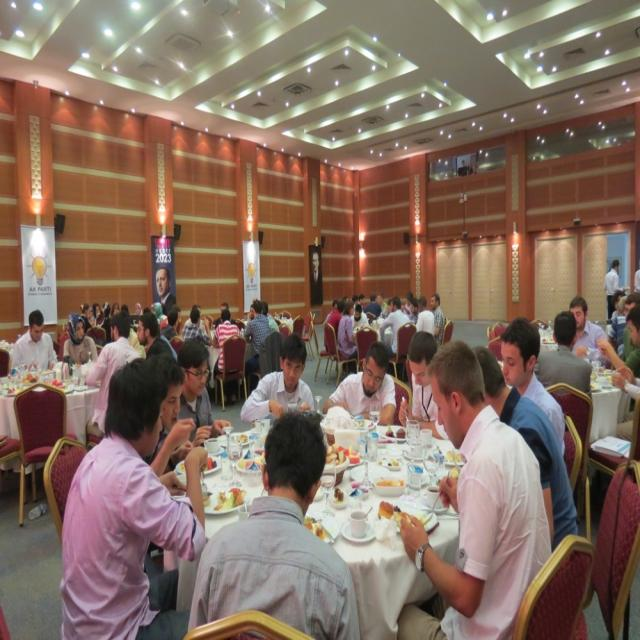body: (395, 336, 553, 640), (57, 356, 210, 640), (187, 409, 361, 640), (470, 343, 580, 553), (498, 316, 566, 462), (167, 335, 233, 449), (239, 330, 317, 424), (84, 311, 142, 434), (320, 340, 398, 428), (144, 348, 197, 477), (78, 299, 282, 332), (596, 305, 640, 443), (398, 330, 453, 440), (532, 308, 594, 401), (209, 306, 244, 406), (10, 307, 58, 373), (345, 286, 420, 325), (568, 294, 609, 365), (62, 311, 99, 377), (244, 299, 271, 379), (379, 295, 412, 358), (335, 300, 362, 375), (135, 310, 174, 360), (602, 257, 629, 322), (605, 294, 630, 363), (605, 294, 630, 362), (323, 298, 348, 354), (610, 362, 640, 406), (182, 306, 212, 346), (306, 246, 324, 302), (430, 292, 446, 348), (415, 295, 435, 336), (154, 266, 177, 300), (326, 301, 346, 338), (609, 288, 627, 324), (350, 302, 370, 330), (631, 260, 640, 296), (457, 158, 472, 174)
